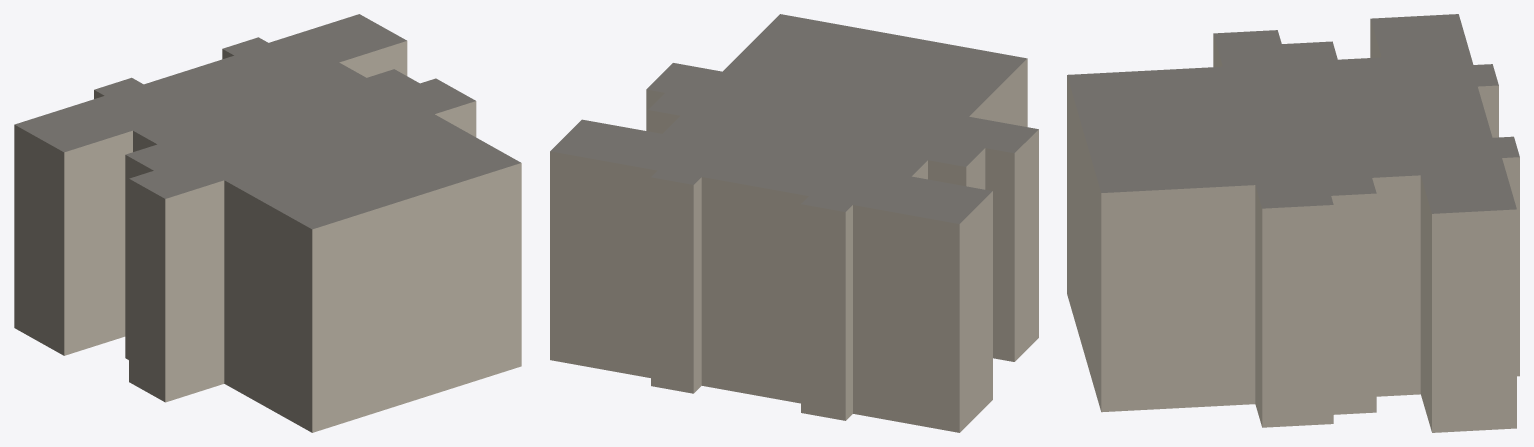
3 renders of one model, left to right at view 1: azimuth 30°, elevation 25°; view 2: azimuth 150°, elevation 25°; view 3: azimuth 270°, elevation 25°, orthographic. The views are drawn at different scales.
Visible parts, largest first — view 1: HP-w293412302; view 2: HP-w293412302; view 3: HP-w293412302.
Part boxes in pixels (x1=…): HP-w293412302: x1=14, y1=14, x2=521, y2=432; HP-w293412302: x1=550, y1=14, x2=1038, y2=432; HP-w293412302: x1=1067, y1=14, x2=1519, y2=432.
Size of the model in its own units: 35.23 by 18 by 33.73.
